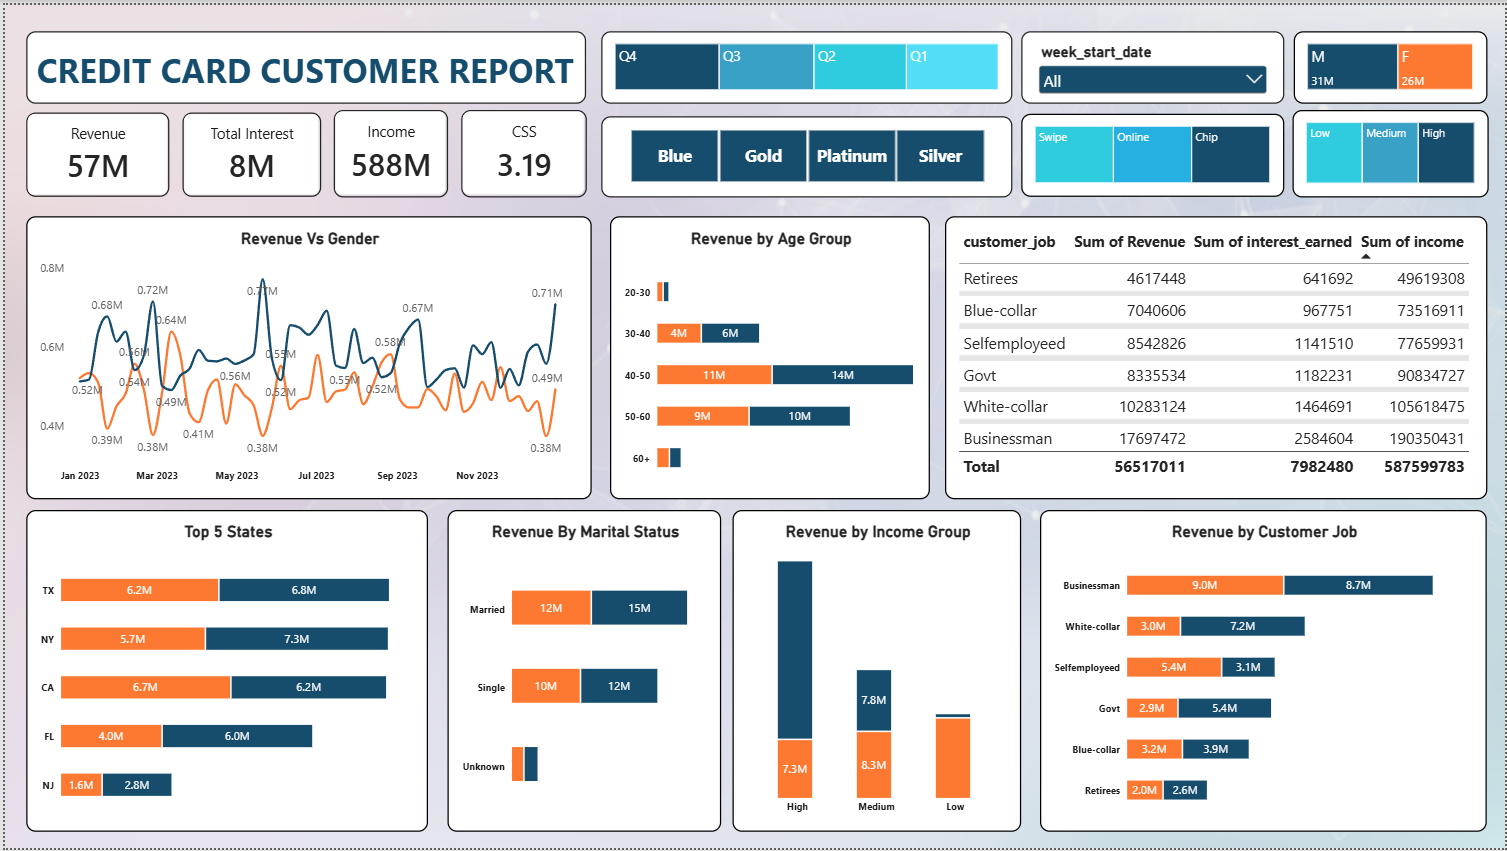

The dashboard page shown, as its layout file describes it:
{"tool":"powerbi","page":{"name":"CC Customer","canvas":[1920,1080],"ordinal":2},"visuals":[{"type":"textbox","box":[27.9,33.1,716.9,92.4],"z":0},{"type":"columnChart","title":" Revenue by Income Group","fields":{"Category":["public cust_detail.IncomeGroup"],"Series":["public cust_detail.gender"],"Y":["Sum(public cc_detail.Revenue)"]},"box":[931.4,647.1,369.8,411.6],"z":1000},{"type":"cardVisual","fields":{"Data":["Sum(public cc_detail.Revenue)"]},"box":[27.9,137.8,183.1,108.1],"z":2000},{"type":"cardVisual","fields":{"Data":["Sum(public cust_detail.income)"]},"box":[420.4,134.3,146.5,111.6],"z":3000},{"type":"cardVisual","fields":{"Data":["Sum(public cc_detail.interest_earned)"]},"box":[226.7,137.8,177.9,108.1],"z":4000},{"type":"cardVisual","fields":{"Data":["Avg(public cust_detail.cust_satisfaction_score)"]},"box":[584.3,134.3,160.5,111.6],"z":5000},{"type":"slicer","fields":{"Values":["public cc_detail.week_start_date"]},"box":[1301.2,33.1,336.6,92.4],"z":6000},{"type":"slicer","fields":{"Values":["public cc_detail.card_category"]},"box":[763.3,141.9,526.8,104.1],"z":8000},{"type":"treemap","fields":{"Group":["public cc_detail.qtr"],"Values":["Avg(public cc_detail.client_num)"]},"box":[763.3,33.1,526.8,93],"z":9000},{"type":"treemap","fields":{"Group":["public cust_detail.gender"],"Values":["Sum(public cc_detail.Revenue)"]},"box":[1650,33.1,247.7,92.4],"z":10000},{"type":"lineChart","title":"Revenue Vs Gender","fields":{"Category":["public cc_detail.week_start_date.Variation.Date Hierarchy.Year","public cc_detail.week_start_date.Variation.Date Hierarchy.Month","public cc_detail.week_start_date.Variation.Date Hierarchy.Day"],"Series":["public cust_detail.gender"],"Y":["Sum(public cc_detail.Revenue)"]},"box":[27.9,270.3,723.8,362.8],"z":11000},{"type":"barChart","title":" Revenue by Age Group","fields":{"Category":["public cust_detail.AgeGroup"],"Series":["public cust_detail.gender"],"Y":["Sum(public cc_detail.Revenue)"]},"box":[774.4,270.3,409.9,362.8],"z":12000},{"type":"barChart","title":" Revenue by Customer Job","fields":{"Category":["public cust_detail.customer_job"],"Series":["public cust_detail.gender"],"Y":["Sum(public cc_detail.Revenue)"]},"box":[1325.6,647.1,572.1,411.6],"z":13000},{"type":"barChart","title":" Top 5 States","fields":{"Category":["public cust_detail.state_cd"],"Series":["public cust_detail.gender"],"Y":["Sum(public cc_detail.Revenue)"]},"box":[27.9,647.1,514.5,411.6],"z":14000},{"type":"barChart","title":"Revenue By Marital Status","fields":{"Category":["public cust_detail.marital_status"],"Series":["public cust_detail.gender"],"Y":["Sum(public cc_detail.Revenue)"]},"box":[566.9,647.1,350.6,411.6],"z":16000},{"type":"treemap","title":"Income Group","fields":{"Group":["public cust_detail.IncomeGroup"],"Values":["Avg(public cc_detail.client_num)"]},"box":[1648.3,134.3,251.2,111.6],"z":17000},{"type":"treemap","fields":{"Group":["public cc_detail.use_chip"],"Values":["Avg(public cc_detail.client_num)"]},"box":[1301.2,139.5,336.6,106.4],"z":17001},{"type":"tableEx","fields":{"Values":["public cust_detail.customer_job","Sum(public cc_detail.Revenue)","Sum(public cc_detail.interest_earned)","Sum(public cust_detail.income)"]},"box":[1203.5,270.3,694.2,362.8],"z":17002}]}

Visuals, with their boxes in screenshot pixels (x1, y1, x2, y2), scaled from the page's 1920x1080 canvas onto the 1507x851 screenshot:
textbox: 22, 26, 585, 99
" Revenue by Income Group" columnChart: 731, 510, 1021, 834
cardVisual - Sum(public cc_detail.Revenue): 22, 109, 166, 194
cardVisual - Sum(public cust_detail.income): 330, 106, 445, 194
cardVisual - Sum(public cc_detail.interest_earned): 178, 109, 318, 194
cardVisual - Avg(public cust_detail.cust_satisfaction_score): 459, 106, 585, 194
slicer - public cc_detail.week_start_date: 1021, 26, 1286, 99
slicer - public cc_detail.card_category: 599, 112, 1013, 194
treemap - public cc_detail.qtr x Avg(public cc_detail.client_num): 599, 26, 1013, 99
treemap - public cust_detail.gender x Sum(public cc_detail.Revenue): 1295, 26, 1489, 99
"Revenue Vs Gender" lineChart: 22, 213, 590, 499
" Revenue by Age Group" barChart: 608, 213, 930, 499
" Revenue by Customer Job" barChart: 1040, 510, 1489, 834
" Top 5 States" barChart: 22, 510, 426, 834
"Revenue By Marital Status" barChart: 445, 510, 720, 834
"Income Group" treemap: 1294, 106, 1491, 194
treemap - public cc_detail.use_chip x Avg(public cc_detail.client_num): 1021, 110, 1286, 194
tableEx - public cust_detail.customer_job x Sum(public cc_detail.Revenue): 945, 213, 1489, 499
